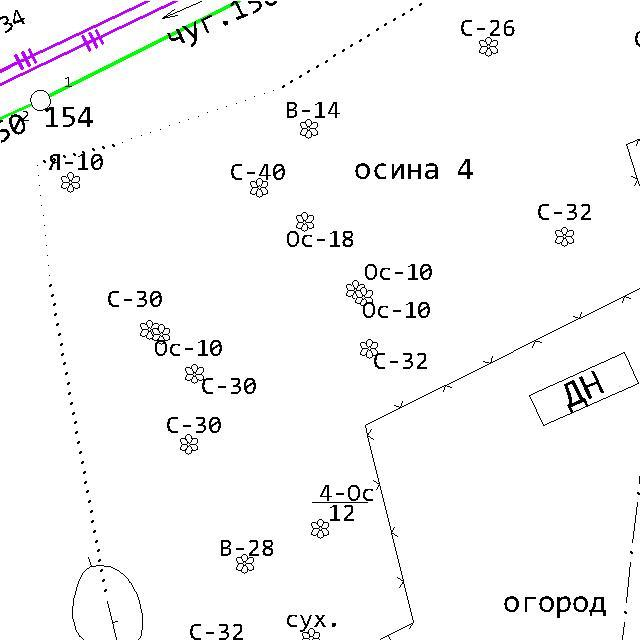bushes: (59, 170, 82, 195), (234, 552, 256, 576), (478, 35, 500, 58), (294, 210, 316, 233), (178, 433, 200, 456), (309, 517, 331, 540), (298, 118, 320, 140), (554, 226, 576, 248), (249, 176, 270, 199), (345, 278, 366, 301), (184, 362, 205, 385), (358, 337, 379, 359), (139, 319, 159, 341), (152, 324, 172, 345), (354, 287, 374, 307)
well: (28, 87, 53, 114)
